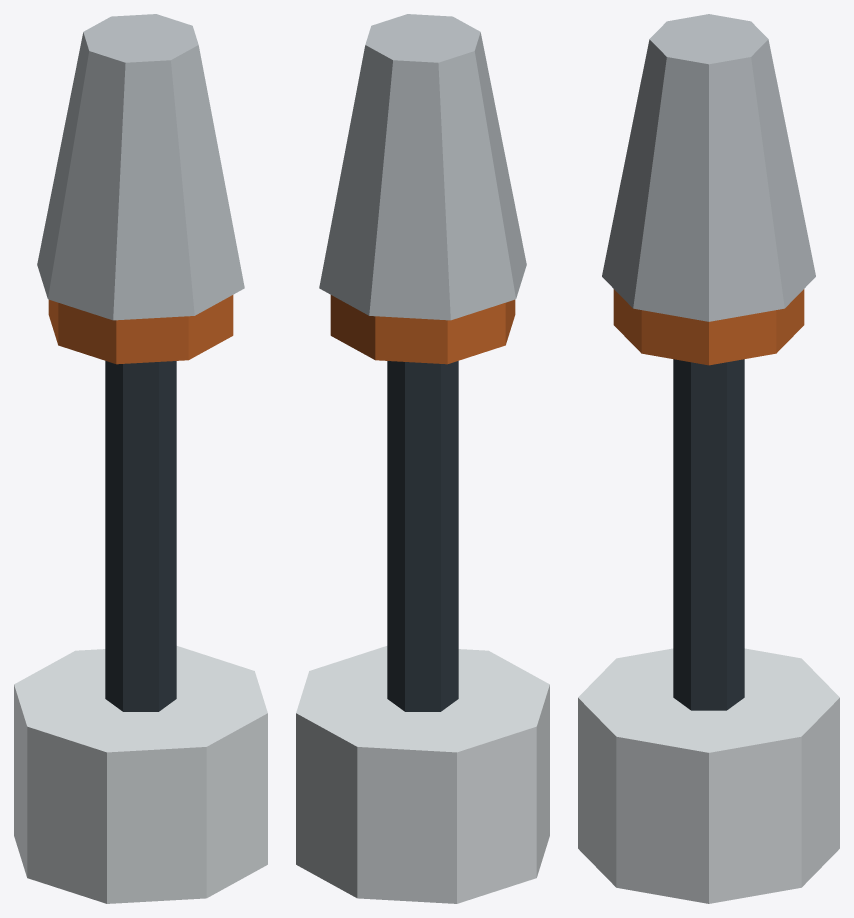
Rendered from perilune-thermoscope.glb.
3 views of the same model, side by side, from view 1: azimuth 30°, elevation 25°; view 2: azimuth 150°, elevation 25°; view 3: azimuth 270°, elevation 25° (orthographic).
Visible parts, largest first — view 1: SM_Science_Thermoscope_Base, SM_Science_Thermoscope_Sensor, SM_Science_Thermoscope_Stem, SM_Science_Thermoscope_Collar; view 2: SM_Science_Thermoscope_Base, SM_Science_Thermoscope_Sensor, SM_Science_Thermoscope_Stem, SM_Science_Thermoscope_Collar; view 3: SM_Science_Thermoscope_Base, SM_Science_Thermoscope_Sensor, SM_Science_Thermoscope_Stem, SM_Science_Thermoscope_Collar.
Part boxes in pixels (x1,y1,x2,y2): SM_Science_Thermoscope_Base: [14, 646, 267, 903]; SM_Science_Thermoscope_Sensor: [37, 14, 244, 320]; SM_Science_Thermoscope_Stem: [105, 361, 176, 711]; SM_Science_Thermoscope_Collar: [48, 295, 233, 364]; SM_Science_Thermoscope_Base: [296, 646, 549, 903]; SM_Science_Thermoscope_Sensor: [319, 14, 526, 320]; SM_Science_Thermoscope_Stem: [387, 361, 458, 711]; SM_Science_Thermoscope_Collar: [330, 295, 515, 364]; SM_Science_Thermoscope_Base: [578, 648, 839, 903]; SM_Science_Thermoscope_Sensor: [602, 14, 815, 321]; SM_Science_Thermoscope_Stem: [673, 359, 744, 710]; SM_Science_Thermoscope_Collar: [613, 289, 804, 365].
Bounding box in the file's own units: 0.11 × 0.375 × 0.11.
